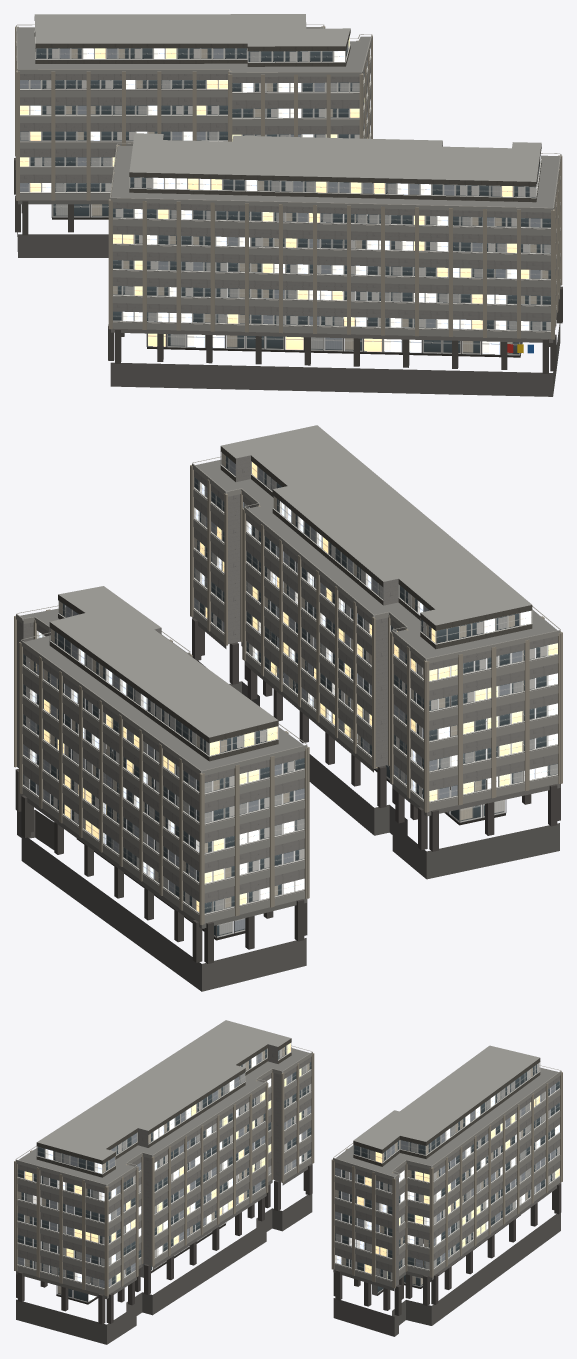
File: amtshaus_helvetia.glb
3 views of the same model, one above another, from view 1: azimuth 30°, elevation 25°; view 2: azimuth 150°, elevation 25°; view 3: azimuth 270°, elevation 25° (orthographic). The views are drawn at different scales.
Visible parts, largest first — view 1: amtshaus_helvetia; view 2: amtshaus_helvetia; view 3: amtshaus_helvetia.
Part boxes in pixels (x1,y1,x2,y2): amtshaus_helvetia: (14, 14, 562, 396); amtshaus_helvetia: (14, 425, 562, 991); amtshaus_helvetia: (14, 1020, 562, 1344).
Size of the model in its own units: 55.68 by 28.55 by 80.89.
3 materials, 3 textured.
